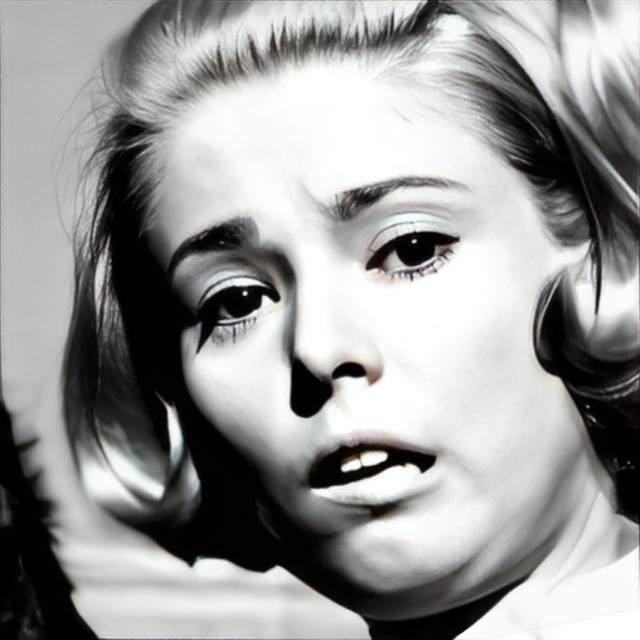fear: (154, 37, 587, 594)
